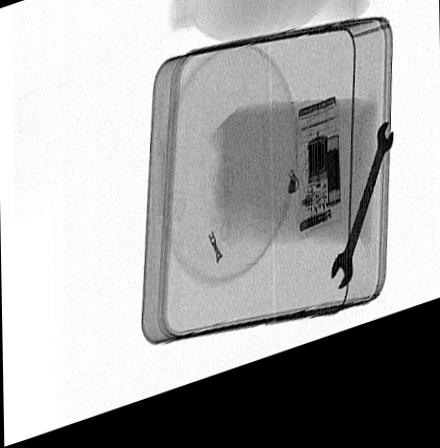Wrench: (328, 142, 393, 313)
